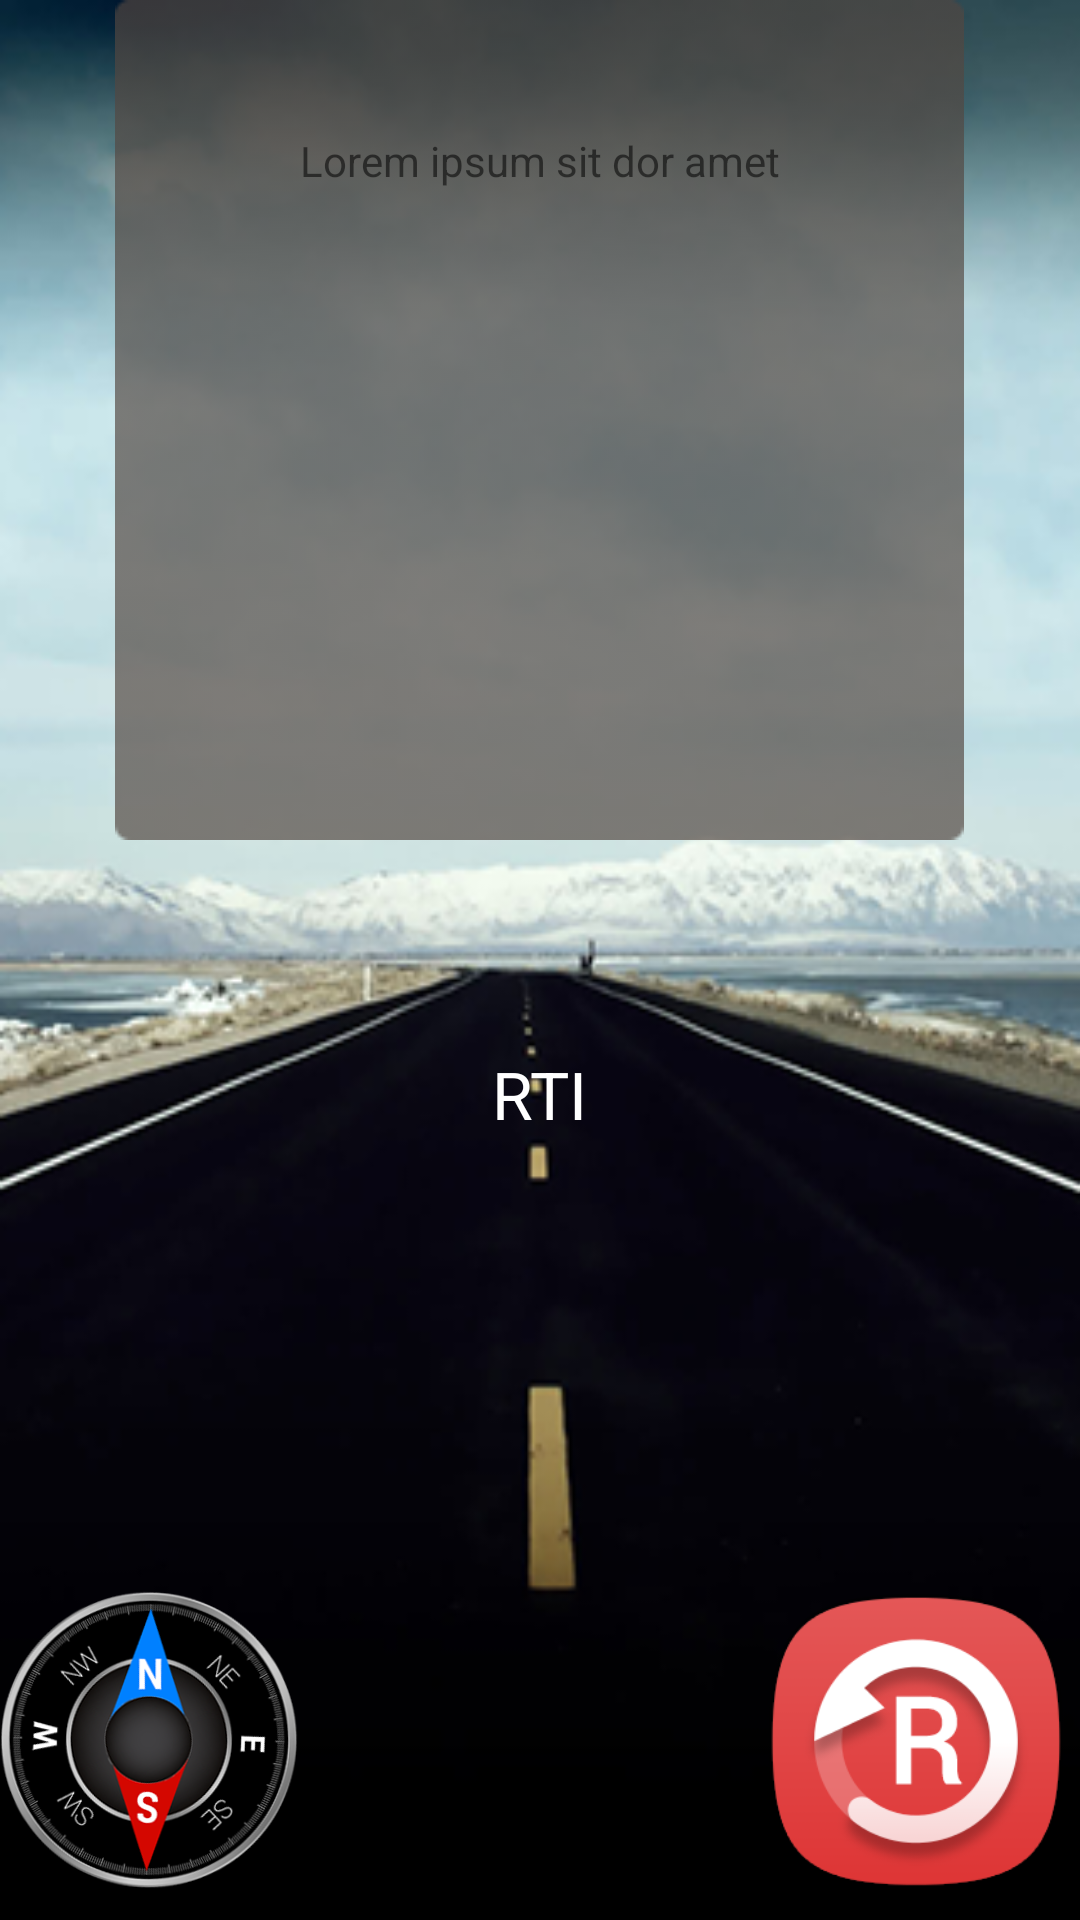

Named icons in this screenshot (1080w x 1920h) and their bounding boxes, bbox=[x1, y1, x2, y2]:
compass: bbox=[1, 1592, 297, 1888]
reset: bbox=[771, 1597, 1061, 1886]
